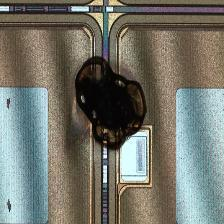PARTICLE: (66, 50, 156, 150)
